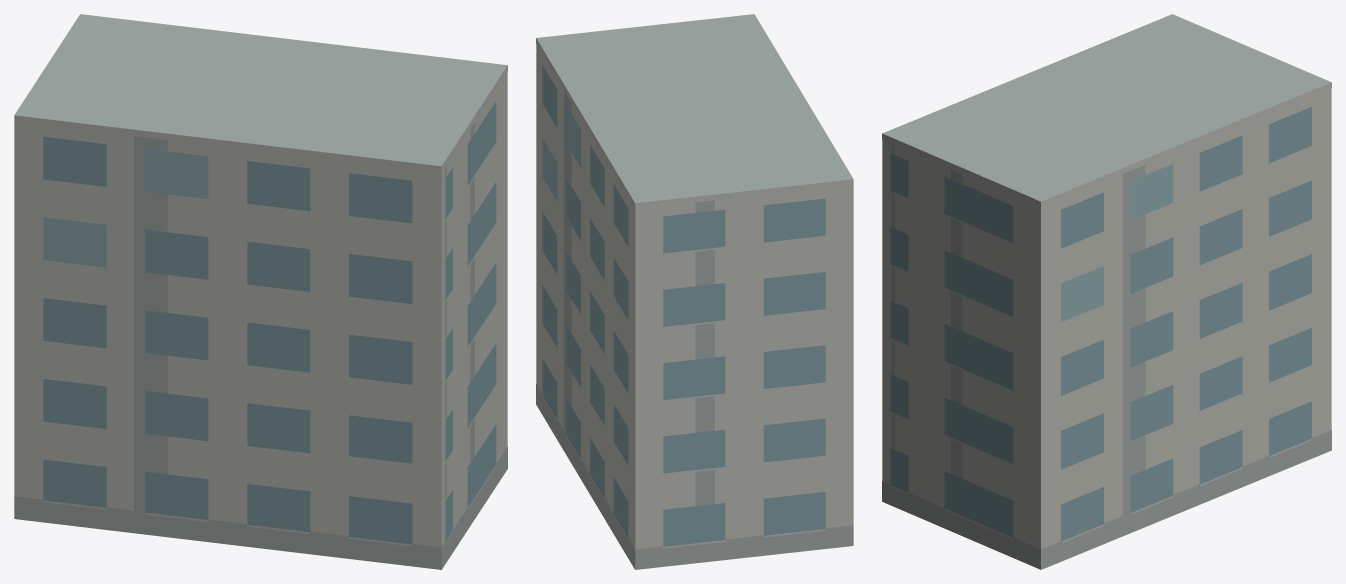
File: survey-upis-32885805.glb
3 views of the same model, side by side, from view 1: azimuth 30°, elevation 25°; view 2: azimuth 150°, elevation 25°; view 3: azimuth 270°, elevation 25° (orthographic). The views are drawn at different scales.
Visible parts, largest first — view 1: survey-upis-32885805.tmp; view 2: survey-upis-32885805.tmp; view 3: survey-upis-32885805.tmp.
Part boxes in pixels (left/top/right/bottom): survey-upis-32885805.tmp: left=14, top=14, right=507, bottom=569; survey-upis-32885805.tmp: left=536, top=14, right=853, bottom=569; survey-upis-32885805.tmp: left=882, top=14, right=1331, bottom=569.
Size of the model in its own units: 16.68 by 15.25 by 16.88.
